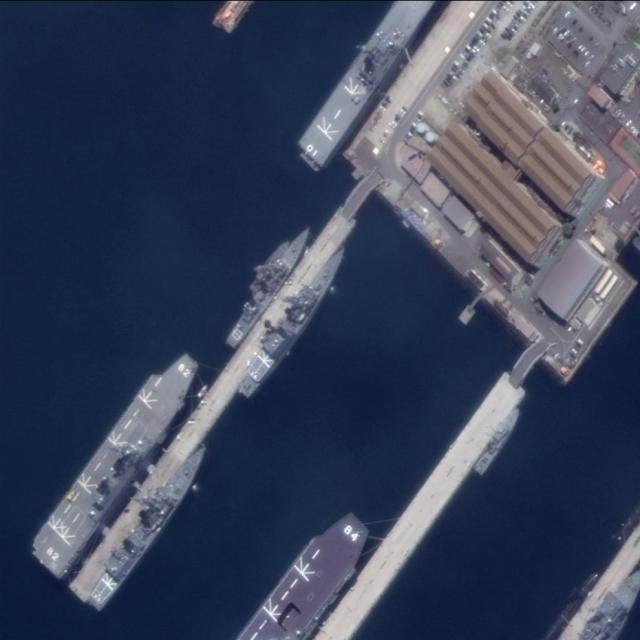Destroyer: (28, 344, 208, 578), (83, 437, 216, 615), (234, 242, 355, 400), (220, 223, 318, 351)
Dock: (63, 175, 379, 598)
Other Warship: (471, 407, 525, 477), (245, 235, 292, 295)
